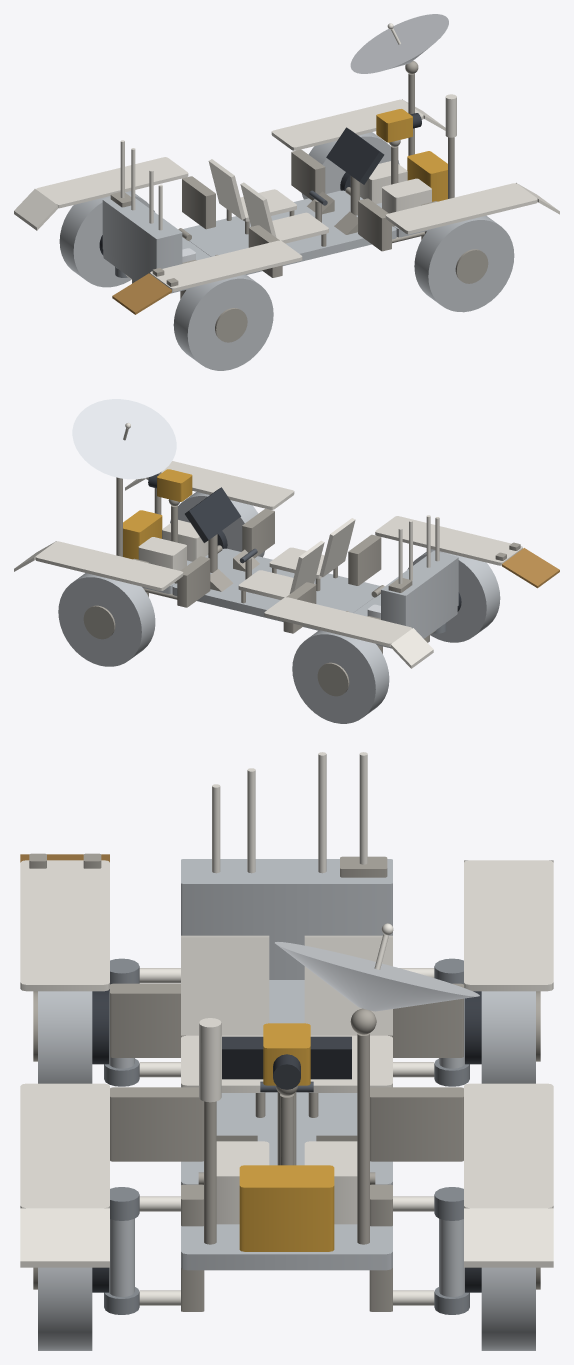
Rendered from 12-lrv.glb.
The picture shows the model from 3 angles, top to bottom: view 1: azimuth 30°, elevation 25°; view 2: azimuth 150°, elevation 25°; view 3: azimuth 270°, elevation 25°; orthographic projection. The views are drawn at different scales.
Parts seen in each view (by area): view 1: fenders, wheels, comms, pallet, chassis, seats, console, batteries, camera; view 2: fenders, wheels, comms, pallet, chassis, seats, console, batteries, camera; view 3: fenders, comms, pallet, wheels, seats, chassis, suspension, batteries, steer, console, camera, motors.
Boxes of the visible parts, bbox=[...] form: fenders: bbox=[14, 99, 559, 314]; wheels: bbox=[59, 132, 514, 370]; comms: bbox=[350, 14, 456, 201]; pallet: bbox=[102, 140, 195, 277]; chassis: bbox=[103, 187, 427, 293]; seats: bbox=[208, 159, 357, 246]; console: bbox=[309, 127, 384, 222]; batteries: bbox=[360, 161, 431, 213]; camera: bbox=[376, 109, 421, 184]; fenders: bbox=[14, 461, 559, 668]; wheels: bbox=[58, 492, 500, 723]; comms: bbox=[72, 399, 176, 559]; pallet: bbox=[367, 515, 458, 633]; chassis: bbox=[142, 545, 457, 648]; seats: bbox=[210, 518, 355, 603]; console: bbox=[185, 487, 257, 579]; batteries: bbox=[138, 520, 208, 570]; camera: bbox=[148, 469, 192, 542]; fenders: bbox=[20, 853, 553, 1267]; comms: bbox=[199, 923, 479, 1251]; pallet: bbox=[181, 752, 392, 979]; wheels: bbox=[33, 991, 540, 1350]; seats: bbox=[181, 935, 392, 1141]; chassis: bbox=[181, 980, 392, 1270]; suspension: bbox=[104, 958, 469, 1314]; batteries: bbox=[216, 1141, 357, 1224]; steer: bbox=[109, 990, 464, 1296]; console: bbox=[222, 1036, 351, 1165]; camera: bbox=[263, 1023, 310, 1165]; motors: bbox=[92, 990, 481, 1292].
Size of the model in its own units: 162 by 80.26 by 90.4.
